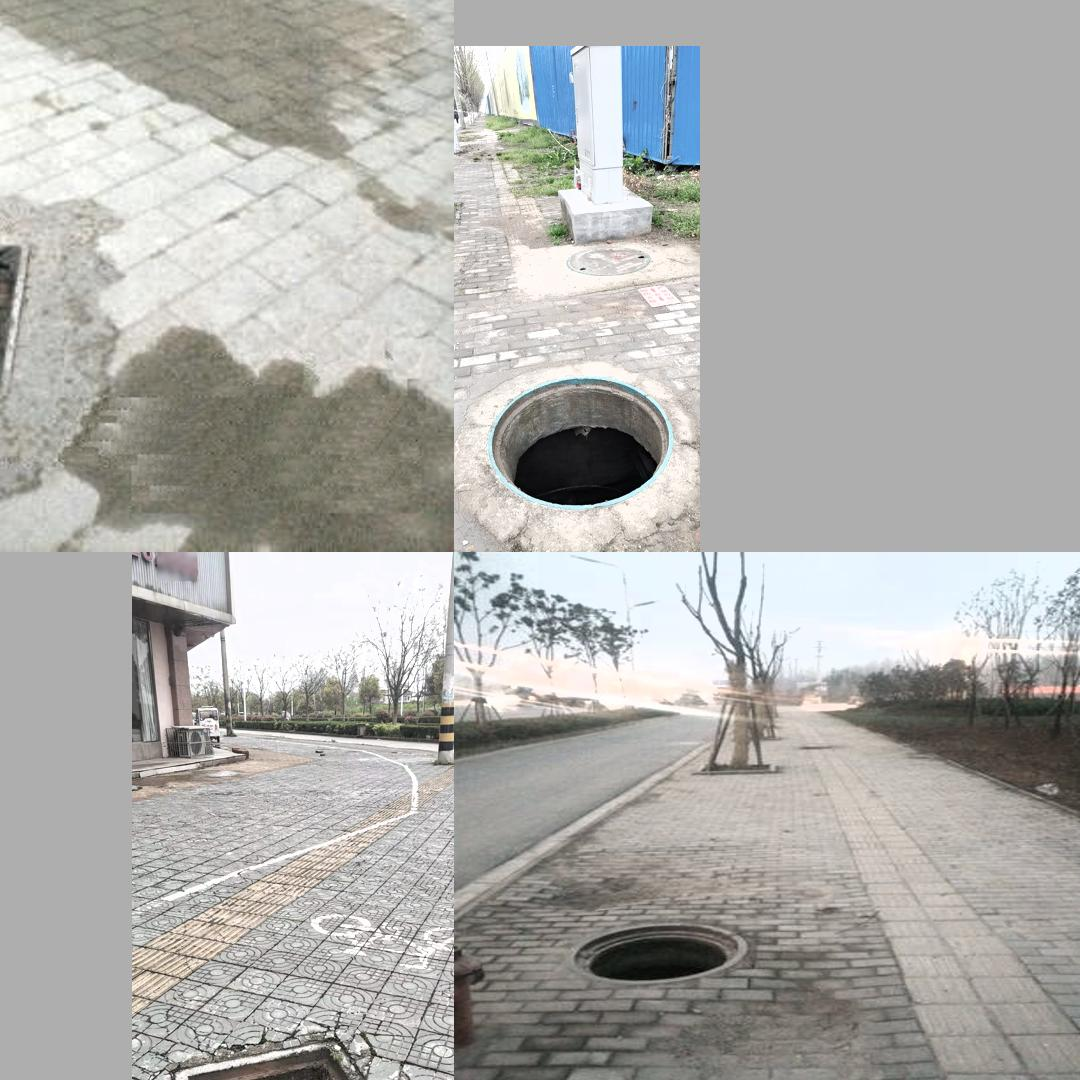lose: (486, 375, 674, 509), (552, 909, 771, 999), (172, 1039, 387, 1080), (0, 218, 31, 406)
